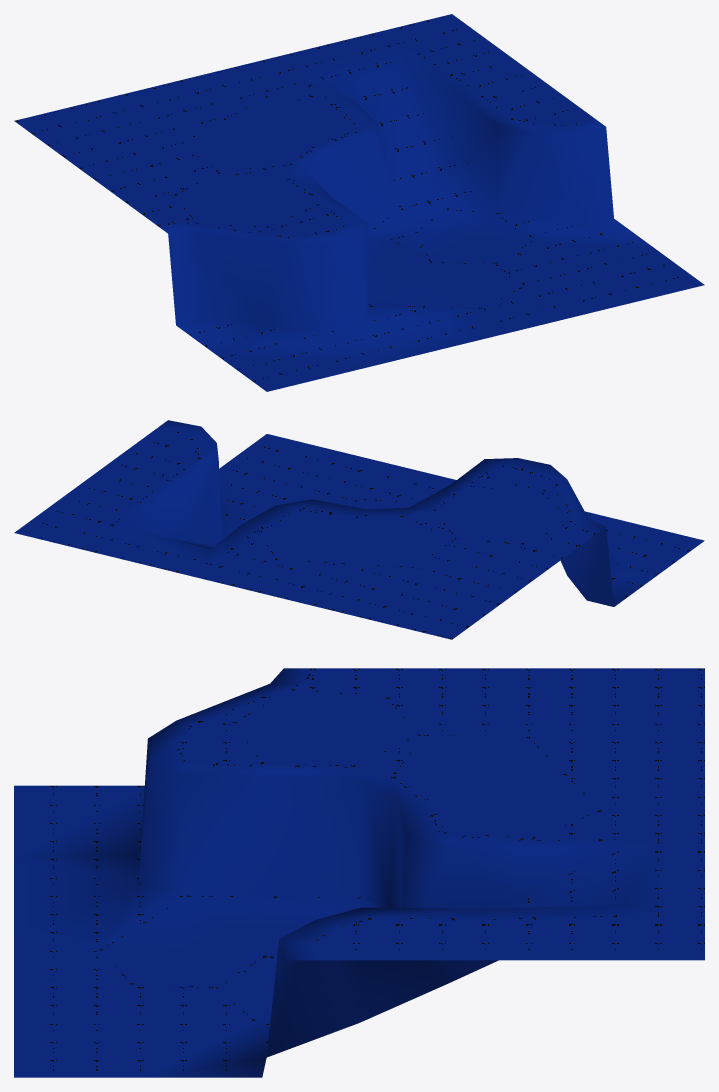
The model's file is GRD_S_C1_S_3.fbx.
3 renders of one model, top to bottom at view 1: azimuth 30°, elevation 25°; view 2: azimuth 150°, elevation 25°; view 3: azimuth 270°, elevation 25°, orthographic. The views are drawn at different scales.
Visible parts, largest first — view 1: material_00012000, material_00032000, material_C0022000; view 2: material_00012000, material_00032000, material_C0022000; view 3: material_00012000, material_00032000, material_C0022000.
Boxes of the visible parts, x1=… form: material_00012000: x1=14, y1=14, x2=704, y2=391; material_00032000: x1=156, y1=53, x2=613, y2=332; material_C0022000: x1=173, y1=96, x2=532, y2=308; material_00012000: x1=14, y1=429, x2=704, y2=639; material_00032000: x1=110, y1=420, x2=613, y2=606; material_C0022000: x1=258, y1=485, x2=572, y2=567; material_00012000: x1=14, y1=668, x2=704, y2=1077; material_00032000: x1=138, y1=668, x2=618, y2=1073; material_C0022000: x1=99, y1=688, x2=602, y2=1021.
Size of the model in its own units: 12800 by 2400 by 12800.
